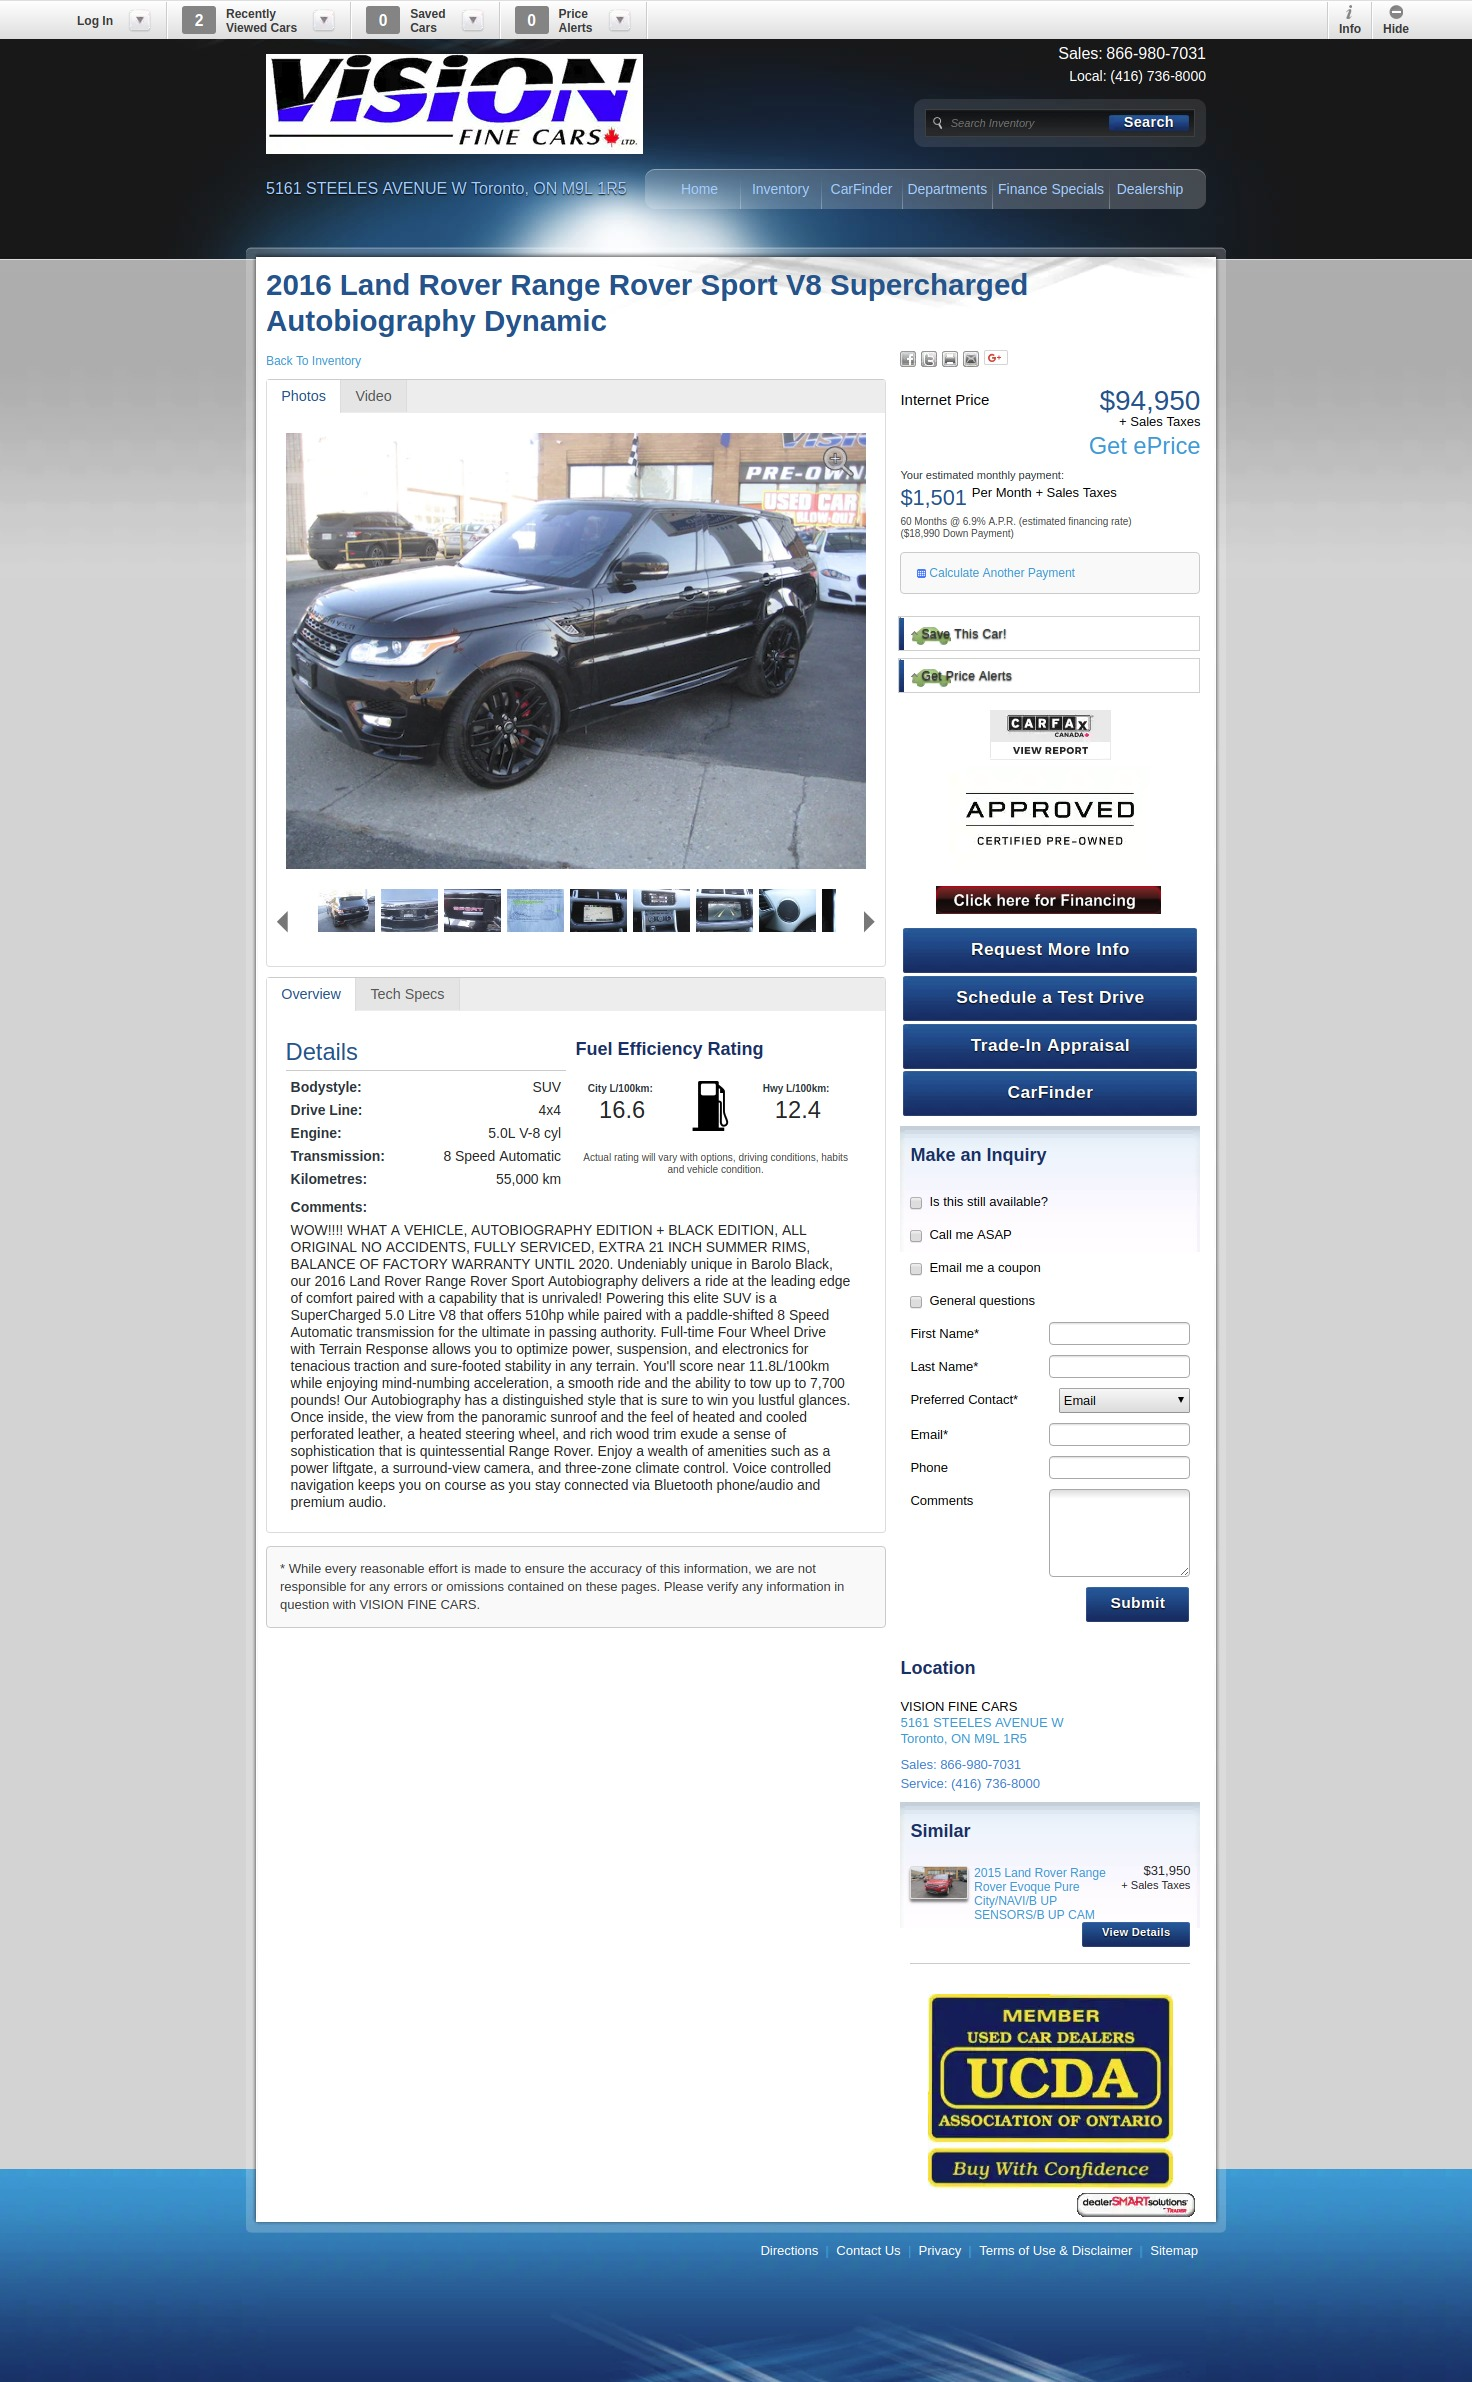car: (864, 910, 876, 932)
